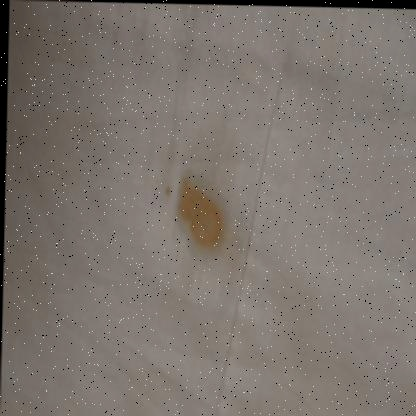kimchi: (170, 173, 233, 254)
